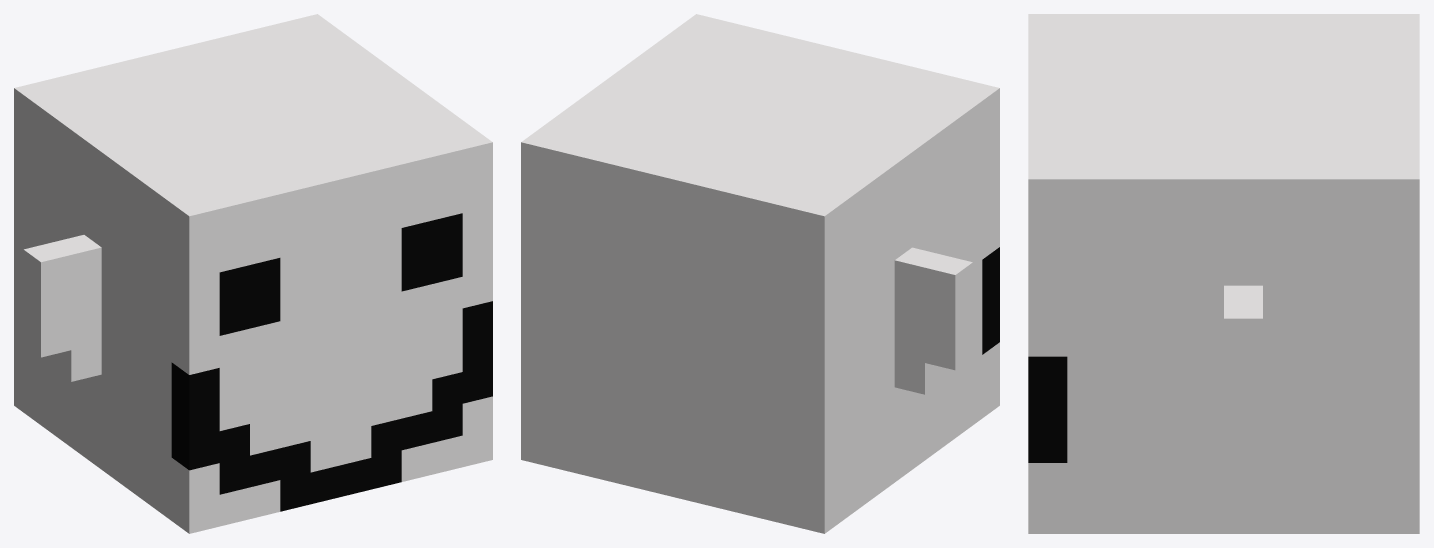
The model's file is FloatingHead_Happy.obj.
3 renders of one model, left to right at view 1: azimuth 30°, elevation 25°; view 2: azimuth 150°, elevation 25°; view 3: azimuth 270°, elevation 25°, orthographic. The views are drawn at different scales.
Bounding box in the file's own units: 1.4 × 1 × 1.
1 material, 1 textured.
